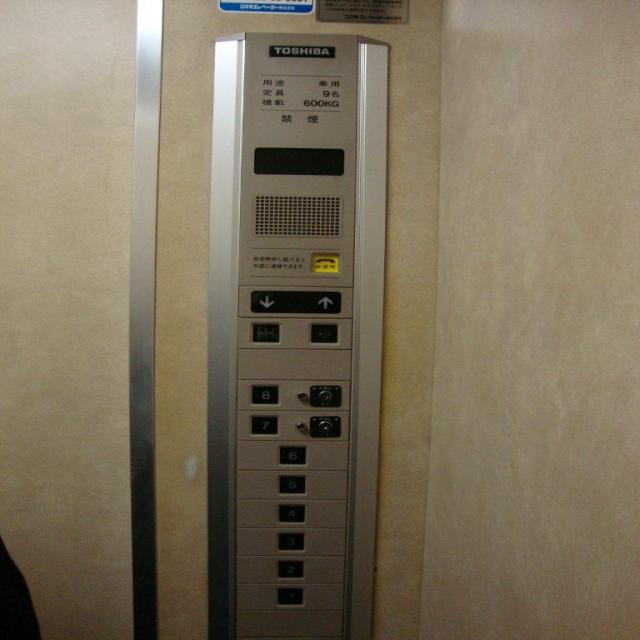1: (274, 586, 304, 606)
2: (274, 558, 304, 578)
3: (274, 530, 306, 551)
4: (275, 502, 305, 522)
5: (275, 473, 305, 494)
6: (276, 444, 306, 464)
7: (247, 414, 278, 434)
8: (248, 382, 280, 404)
bt_keyhole: (307, 383, 341, 408), (307, 414, 341, 438)
call: (308, 251, 339, 273)
close: (306, 321, 338, 344)
led: (247, 144, 346, 177)
open: (248, 321, 280, 343)
